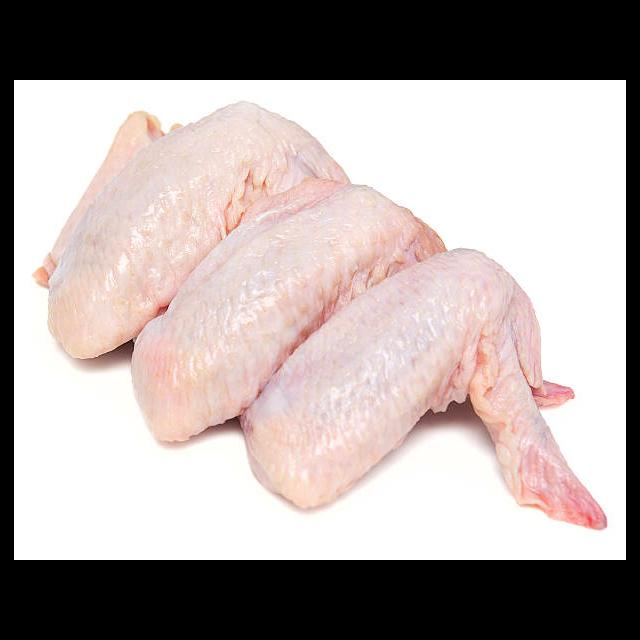chicken: (30, 96, 607, 534)
